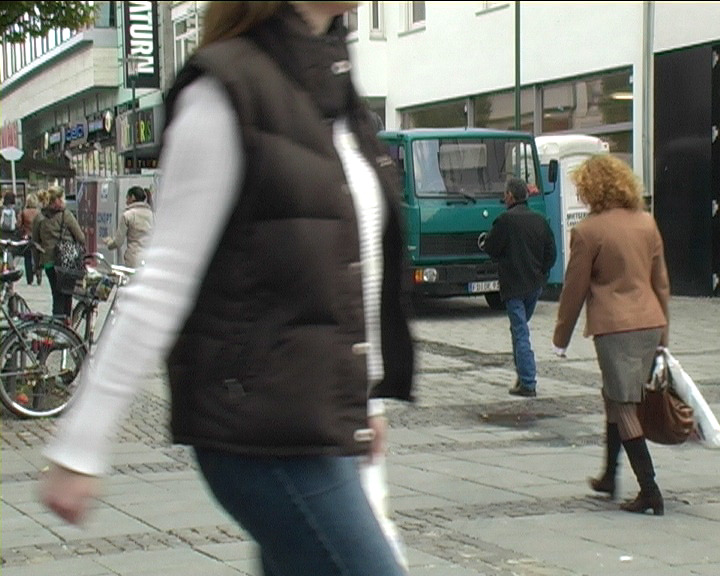undeflect: (494, 177, 547, 239)
